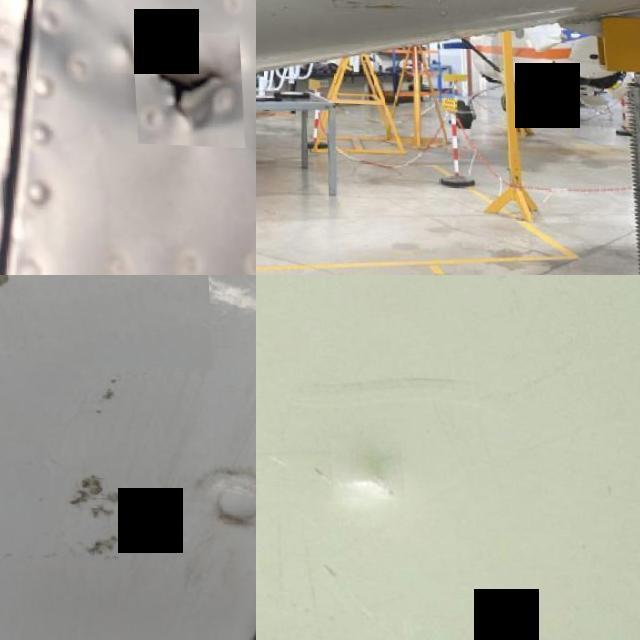Crack: (0, 275, 210, 364), (129, 27, 240, 145)
Dent: (329, 439, 399, 496)
